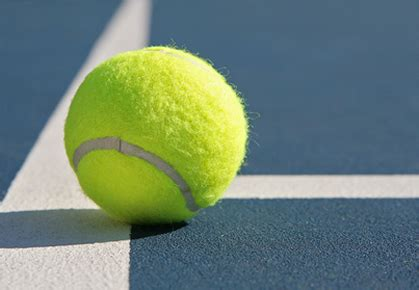tennis_ball: (63, 45, 249, 225)
